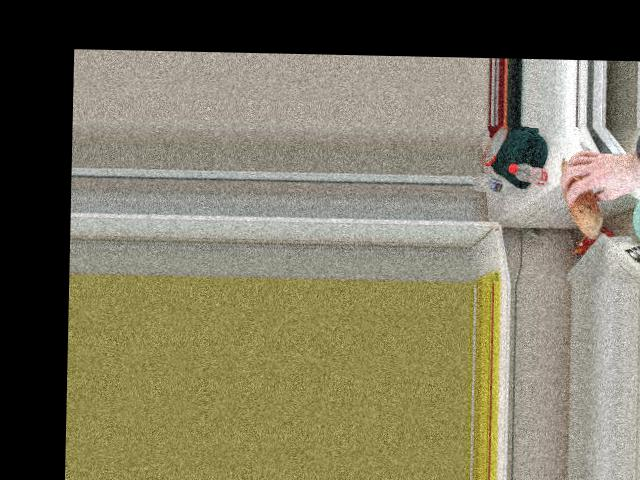sweet_potato: (560, 155, 597, 231)
